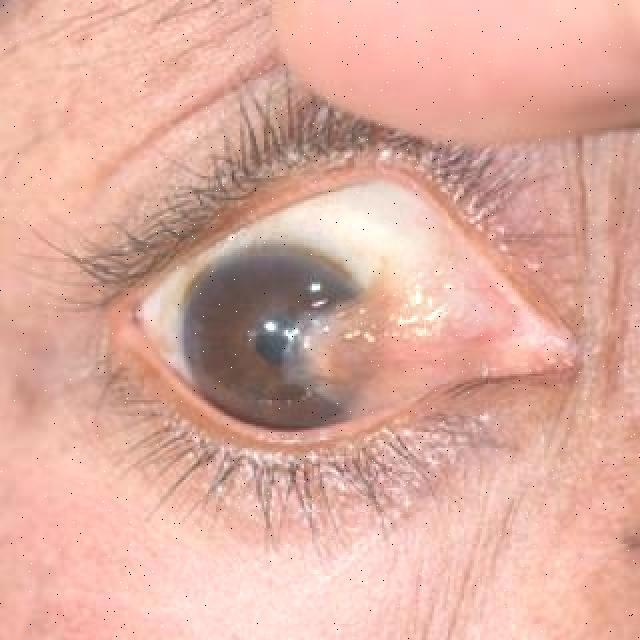Pterygium: (279, 195, 589, 433)
